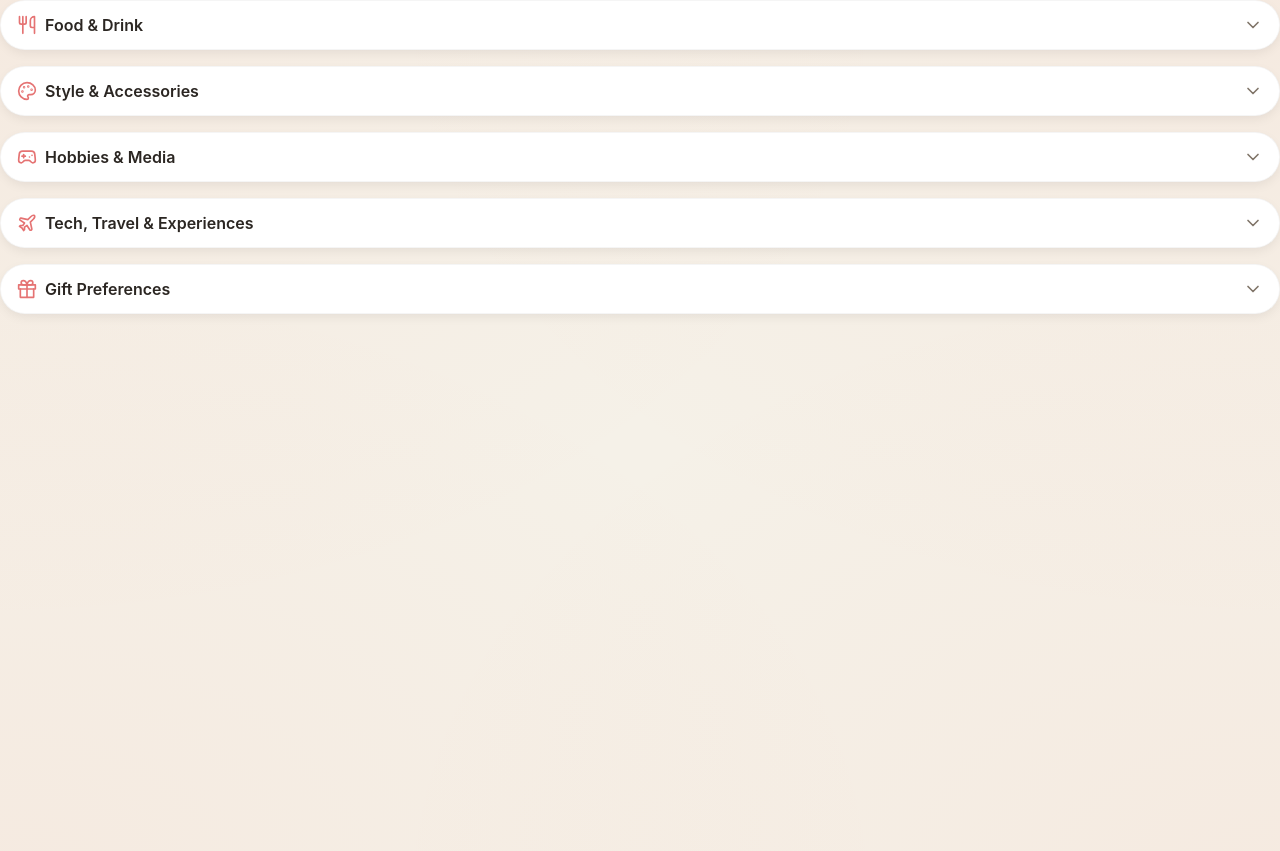
Test: AdvancedInterestsEdit › shows wine types field when likes_wine is true
Expand Food & Drink section
Click the button "Food & Drink": (94, 25) [1,1,1279,49]
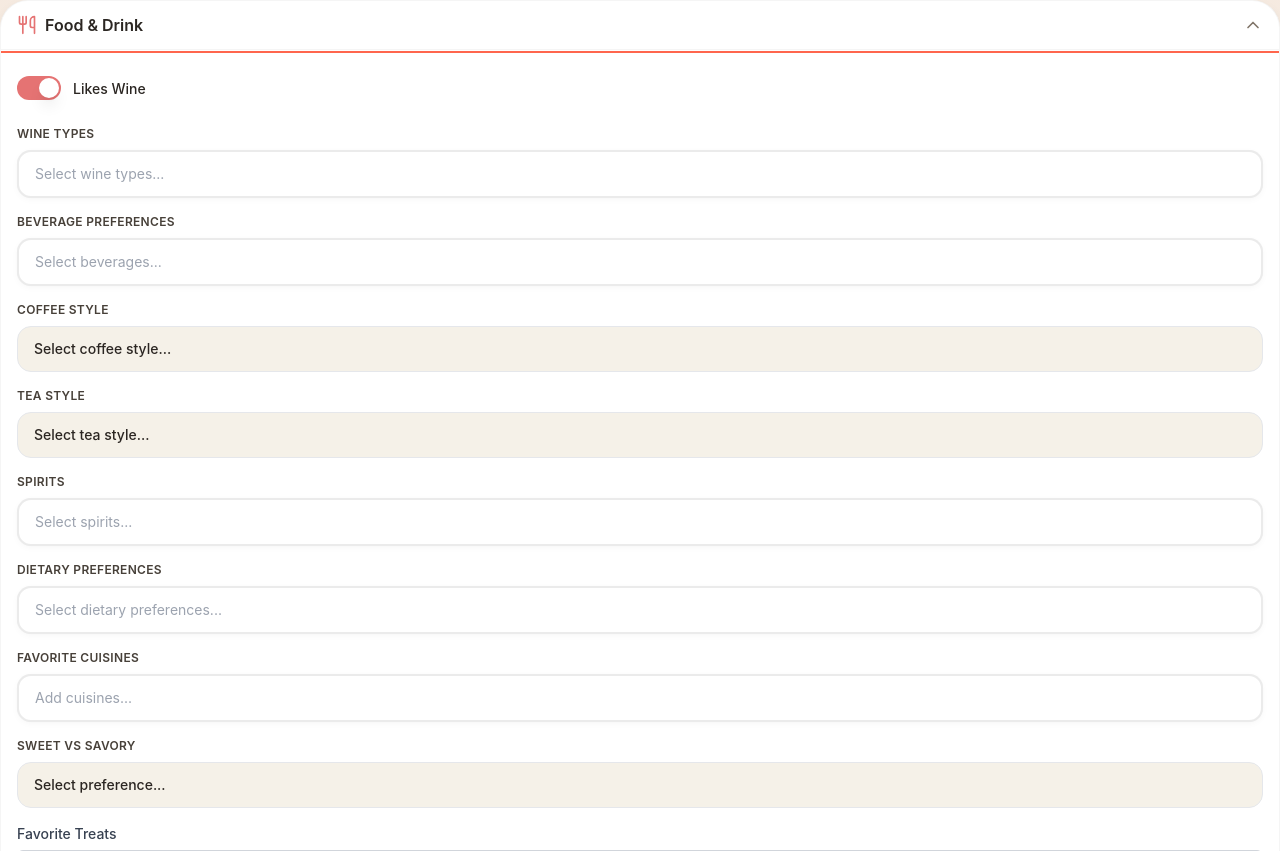
expect the text "Wine Types" is shown: met, box [17,126,94,141]
